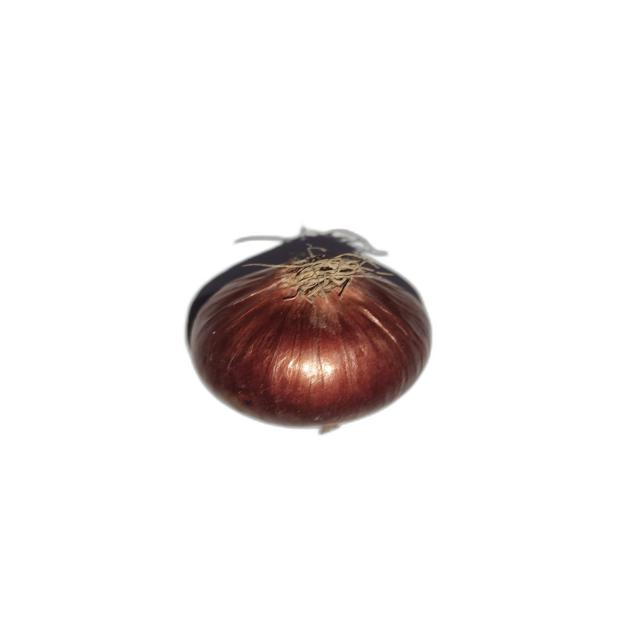onion: (188, 244, 432, 436)
